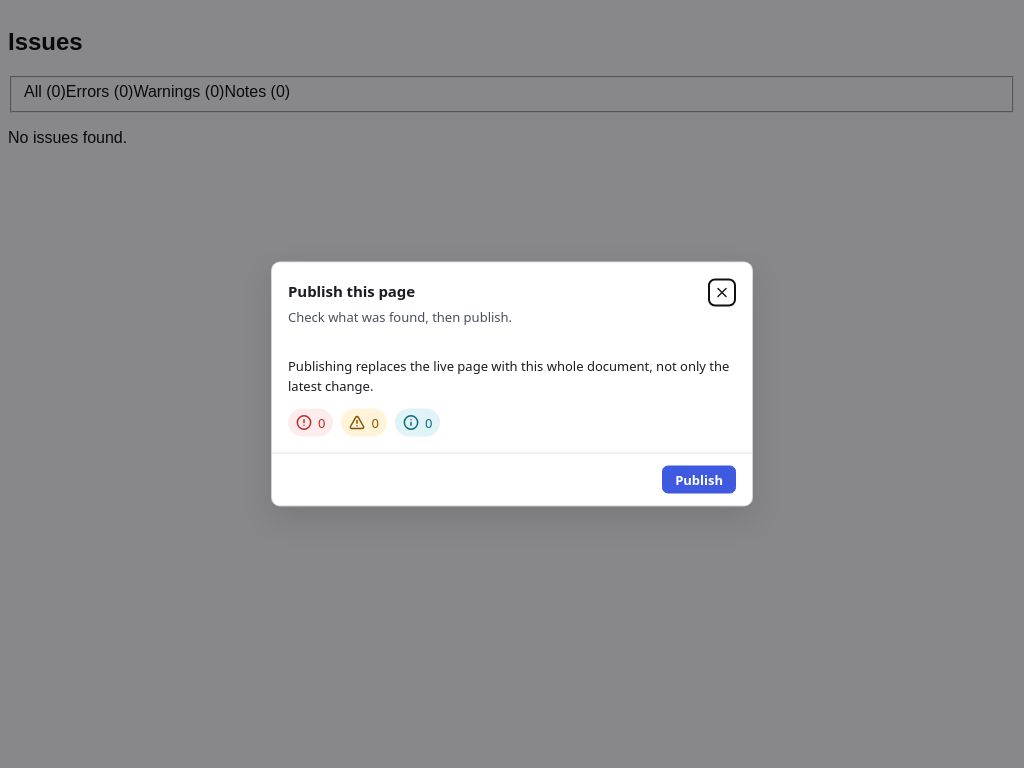
Test: the Issues panel and the publish dialog › shows why a publication failed
Click the button "Publish" at [699, 480], box [662,466,736,494]
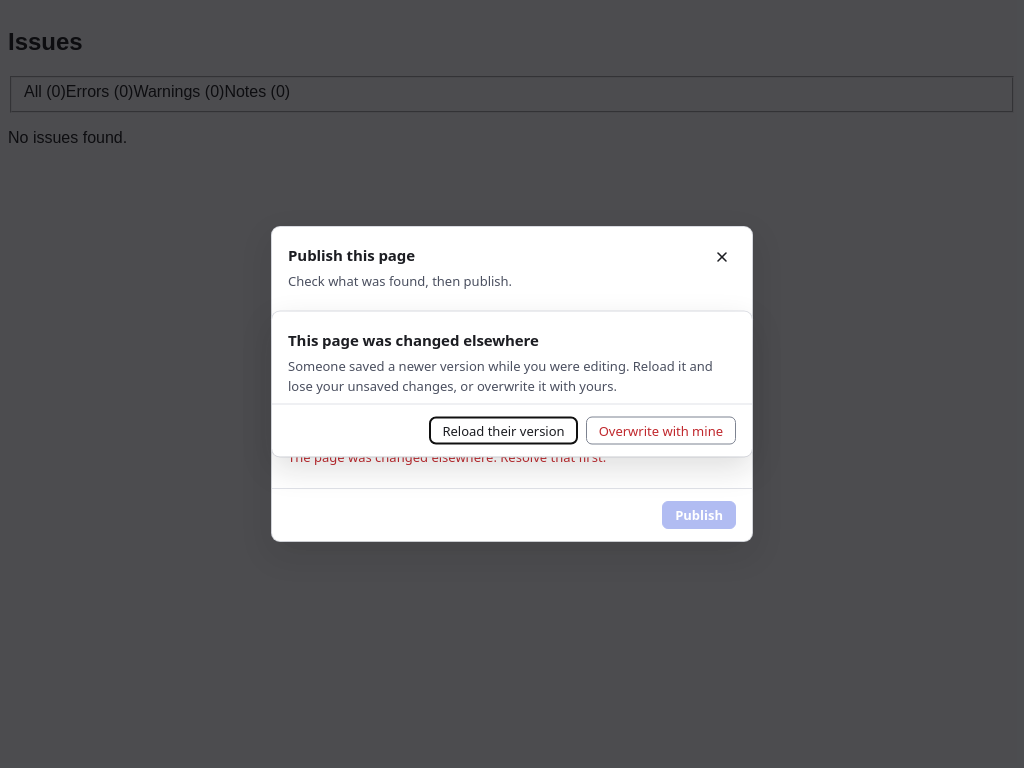
Result: the text "changed elsewhere" is shown at [288,415,606,433]
